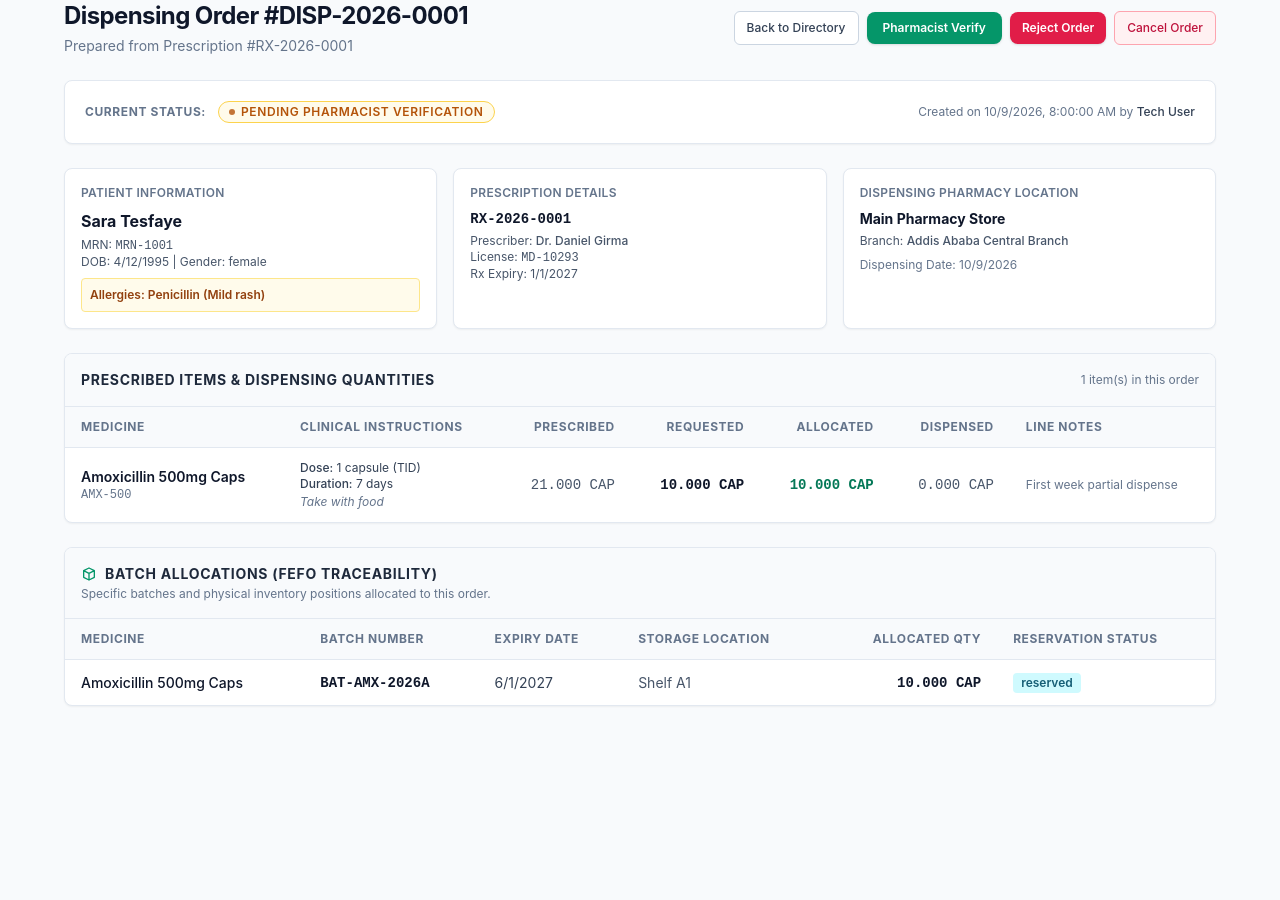
Scenario: Dispensings Module Frontend › Dispensing Detail Page displays batch allocations and Pharmacist verification modal
Expected: the heading "Dispensing Order #DISP-2026-0001" is shown, x1=64 y1=0 x2=468 y2=32
Expected: the text "BAT-AMX-2026A" is shown, x1=304 y1=660 x2=478 y2=705
Click the button "Pharmacist Verify".
click(934, 28)  # box x1=866 y1=12 x2=1002 y2=44
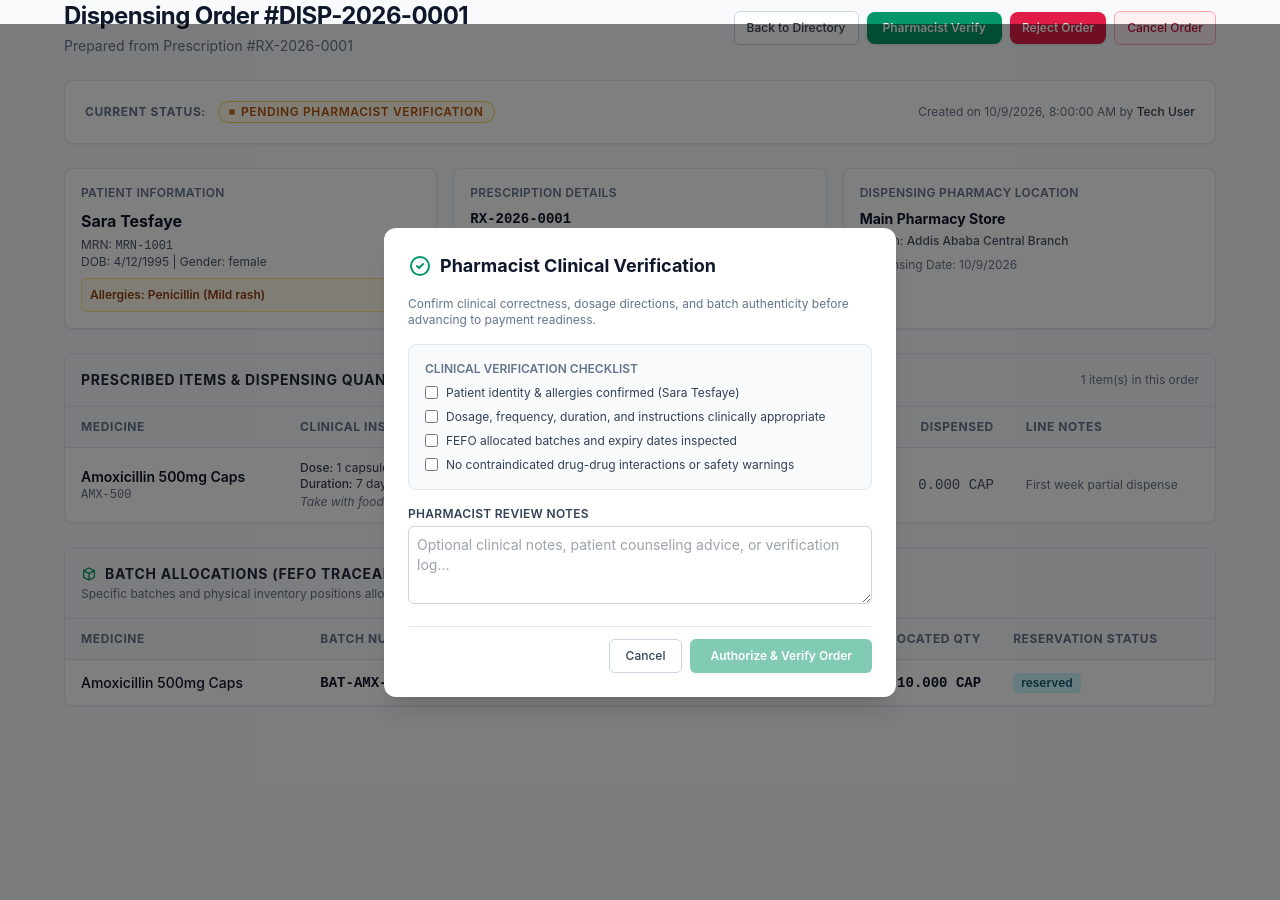
Result: the heading "Pharmacist Clinical Verification" is shown at x1=408 y1=254 x2=716 y2=278
Result: the text "Clinical Verification Checklist" is shown at x1=425 y1=360 x2=638 y2=376
Click the checkbox labelled "Patient identity & allergies confirmed (Sara Tesfaye)".
click(432, 392)  # box x1=425 y1=386 x2=438 y2=399
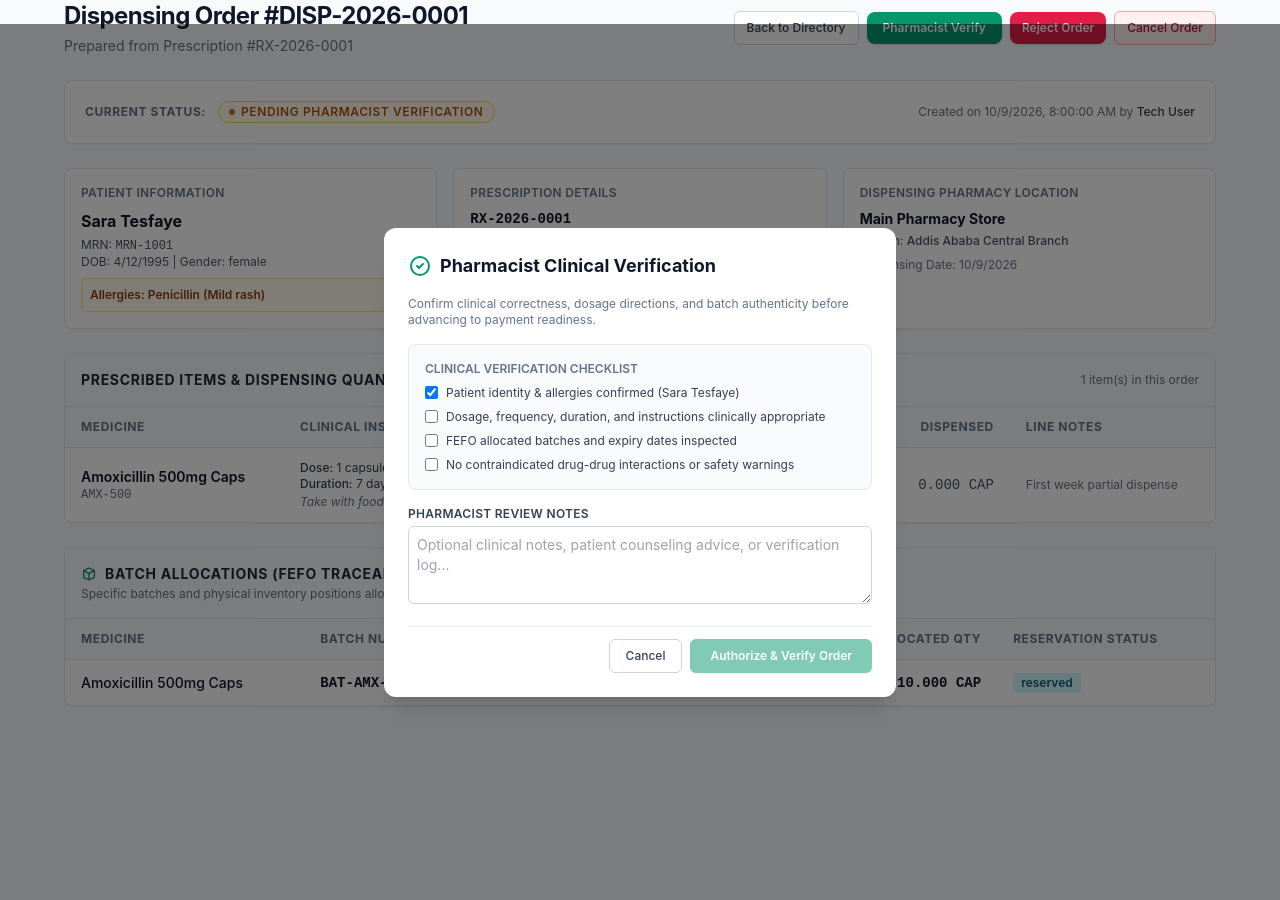
Click the 2nd checkbox.
click(432, 416)  # box x1=425 y1=410 x2=438 y2=423
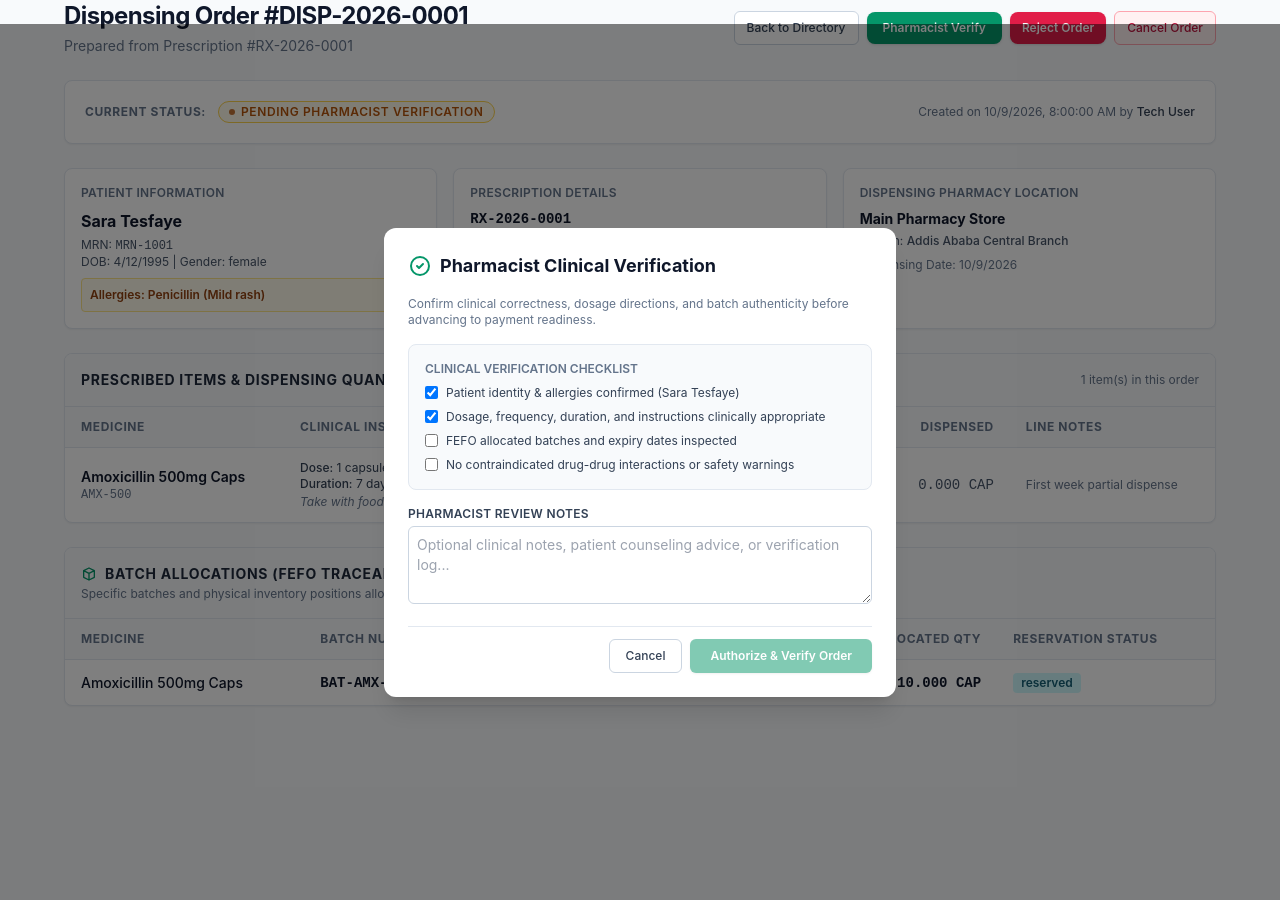
Click the checkbox labelled "FEFO allocated batches and expiry dates inspected".
click(432, 440)  # box x1=425 y1=434 x2=438 y2=447
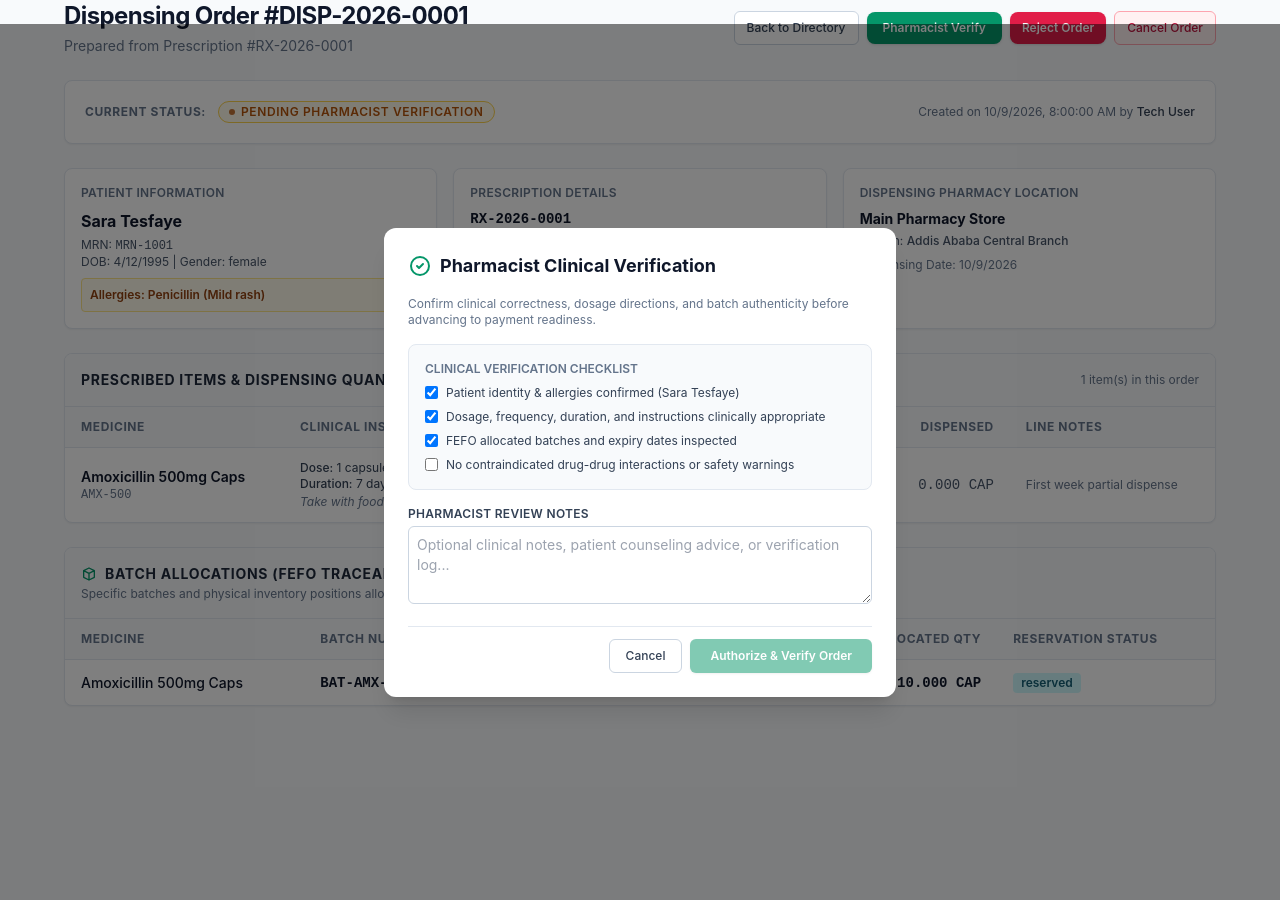
Click the checkbox labelled "No contraindicated drug-drug interactions or safety warnings".
click(432, 464)  # box x1=425 y1=458 x2=438 y2=471
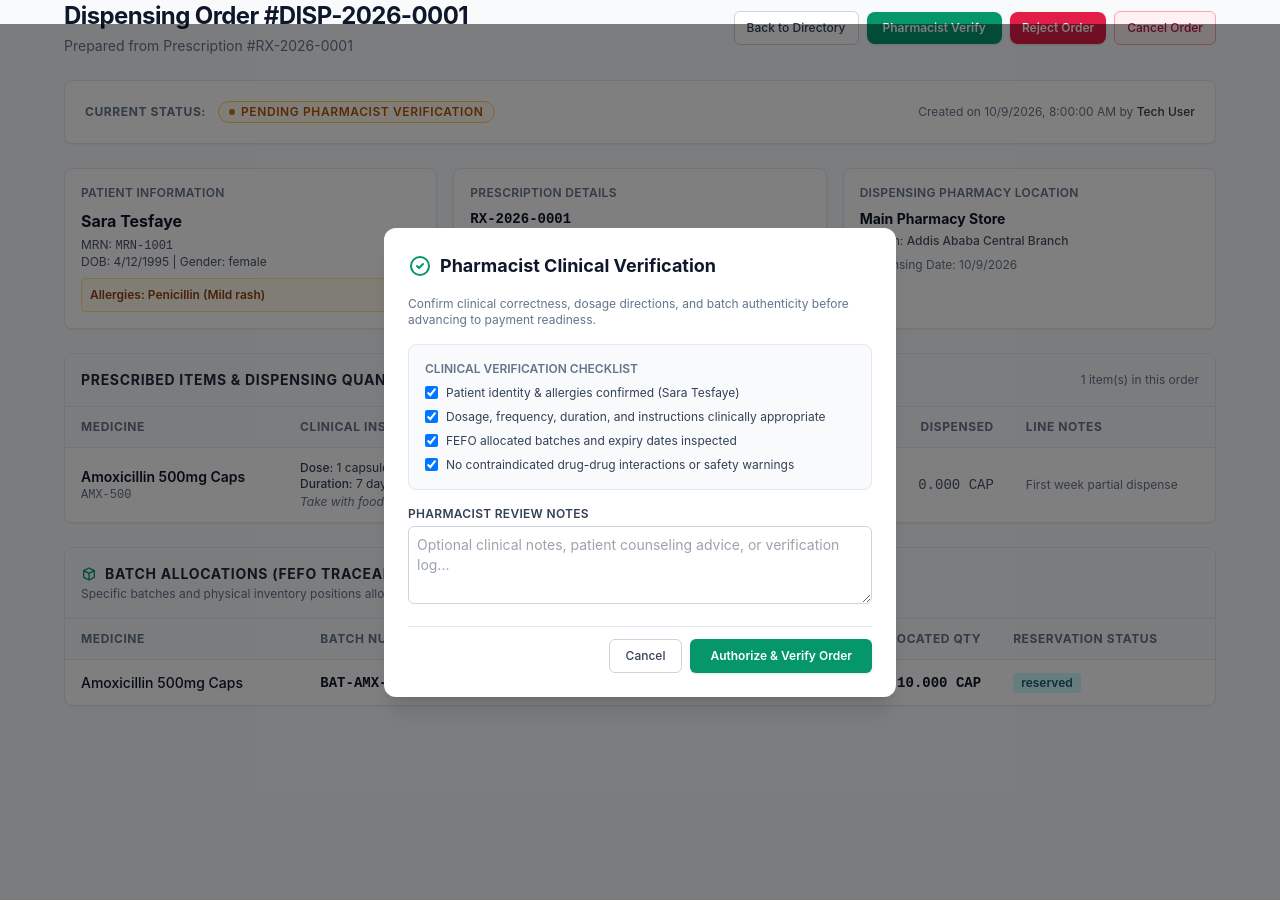
Result: the button "Authorize & Verify Order" is enabled
Click the button "Authorize & Verify Order".
click(781, 656)  # box x1=690 y1=638 x2=872 y2=672
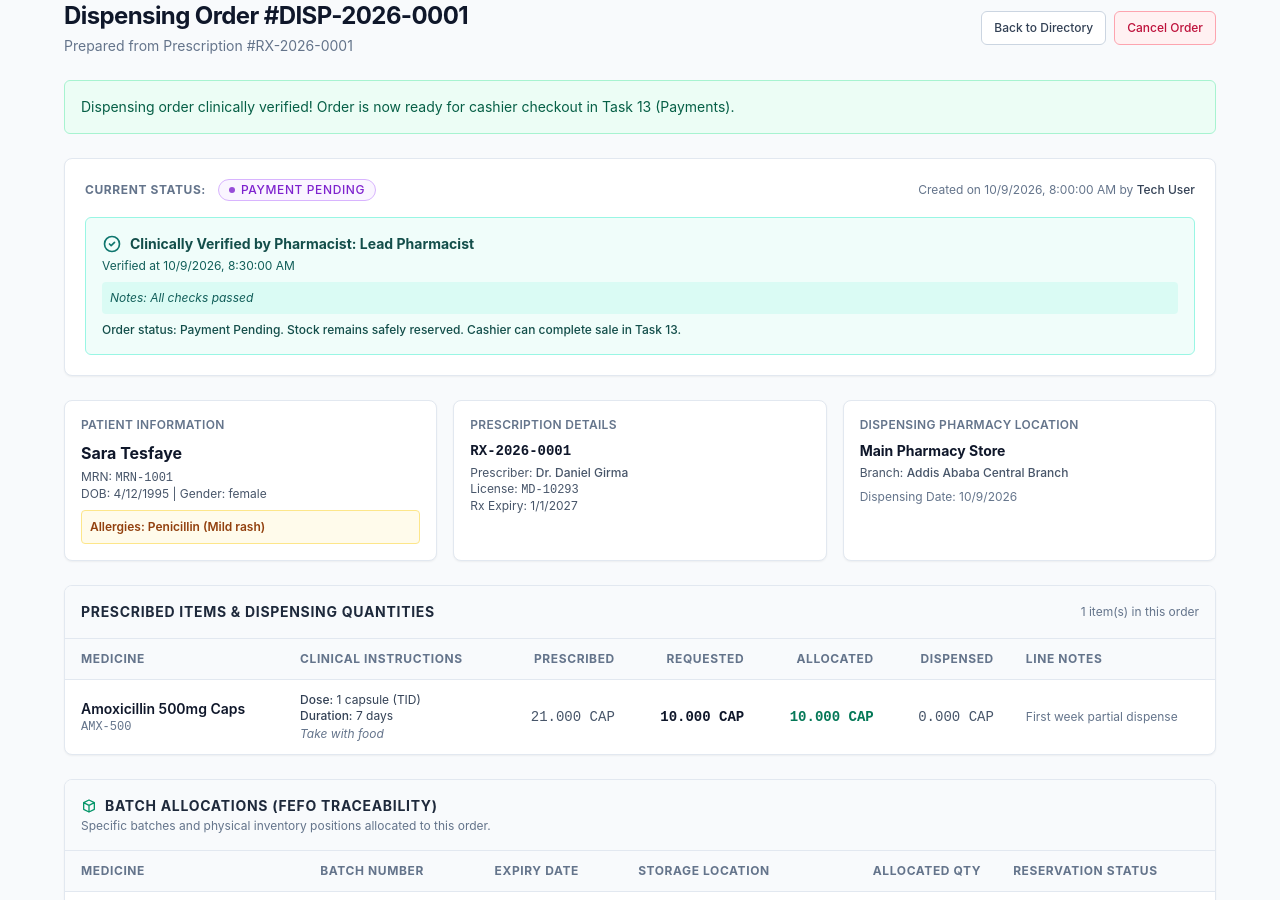
Result: the text "Dispensing order clinically verified!" is shown at x1=81 y1=98 x2=734 y2=115
